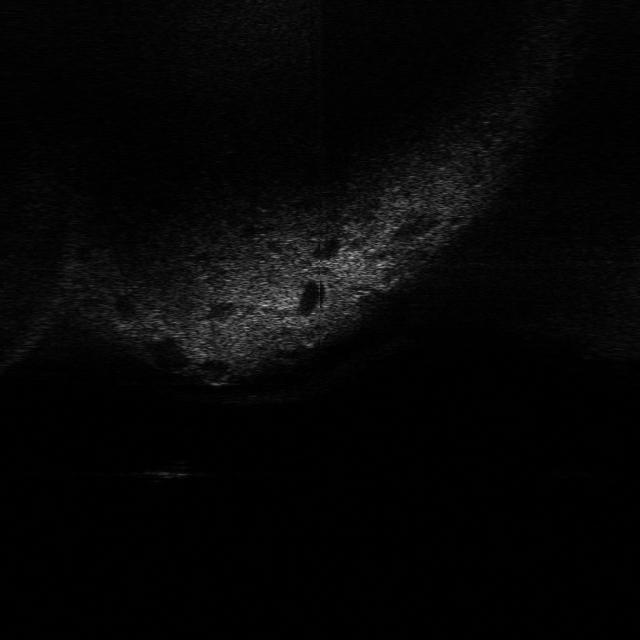ball: (292, 319, 326, 349)
cube: (138, 455, 190, 482)
